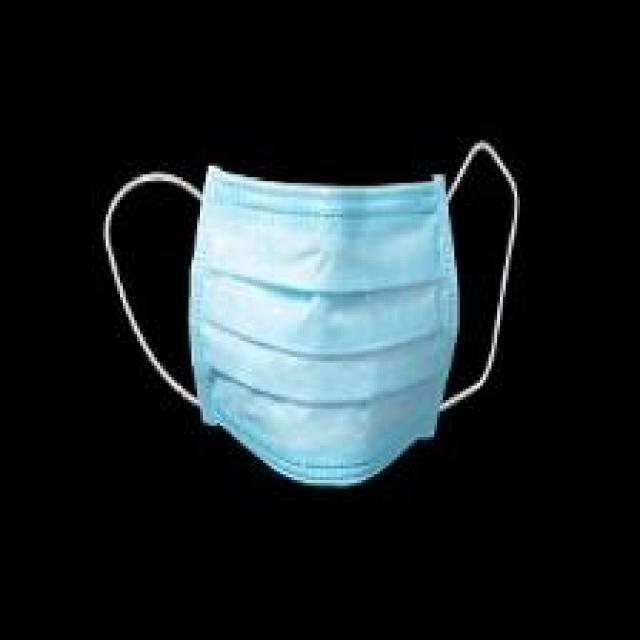Mask: (92, 135, 538, 484)
